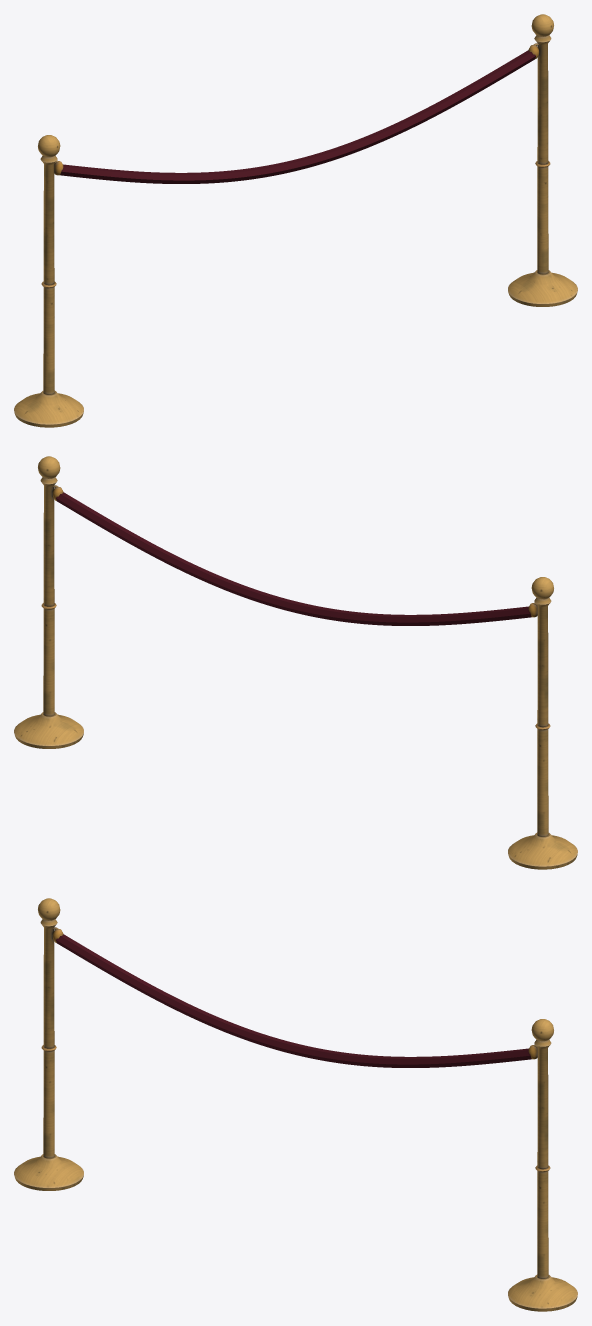
The model's file is GalleryStanchions.fbx.
3 renders of one model, top to bottom at view 1: azimuth 30°, elevation 25°; view 2: azimuth 150°, elevation 25°; view 3: azimuth 330°, elevation 25°, orthographic.
Visible parts, largest first — view 1: GalleryStanchions; view 2: GalleryStanchions; view 3: GalleryStanchions.
Part boxes in pixels (x1,y1,x2,y2): GalleryStanchions: (14, 14, 577, 427); GalleryStanchions: (14, 456, 577, 869); GalleryStanchions: (14, 898, 577, 1311).
Size of the model in its own units: 674 by 322 by 74.
